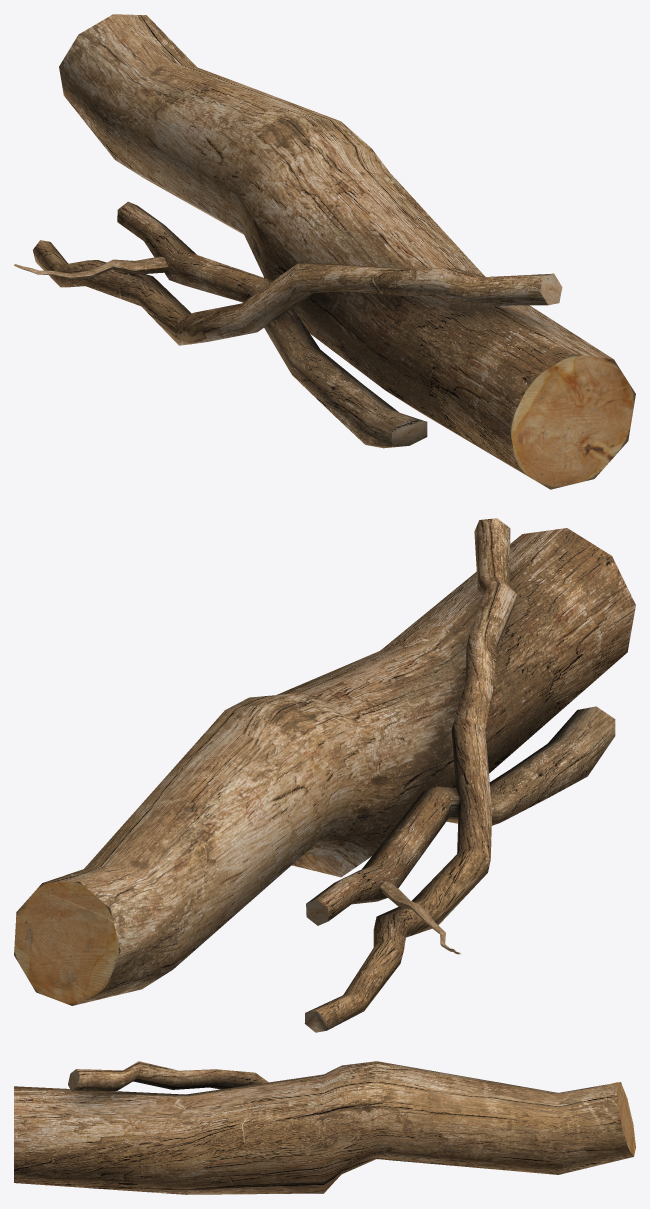
File: WoodPile_01.fbx
3 views of the same model, one above another, from view 1: azimuth 30°, elevation 25°; view 2: azimuth 150°, elevation 25°; view 3: azimuth 270°, elevation 25° (orthographic). The views are drawn at different scales.
Parts seen in each view (by area): view 1: Log, Snag1, Snag2; view 2: Log, Snag1, Snag2; view 3: Log, Snag1.
Part boxes in pixels (box(x1,y1,x2,y2)): Log: box(59, 14, 635, 489); Snag1: box(33, 240, 562, 345); Snag2: box(14, 201, 427, 448); Log: box(14, 528, 635, 1005); Snag1: box(304, 518, 516, 1032); Snag2: box(306, 706, 615, 954); Log: box(14, 1061, 635, 1194); Snag1: box(68, 1061, 268, 1091).
Size of the model in its own units: 335 by 202 by 894.
